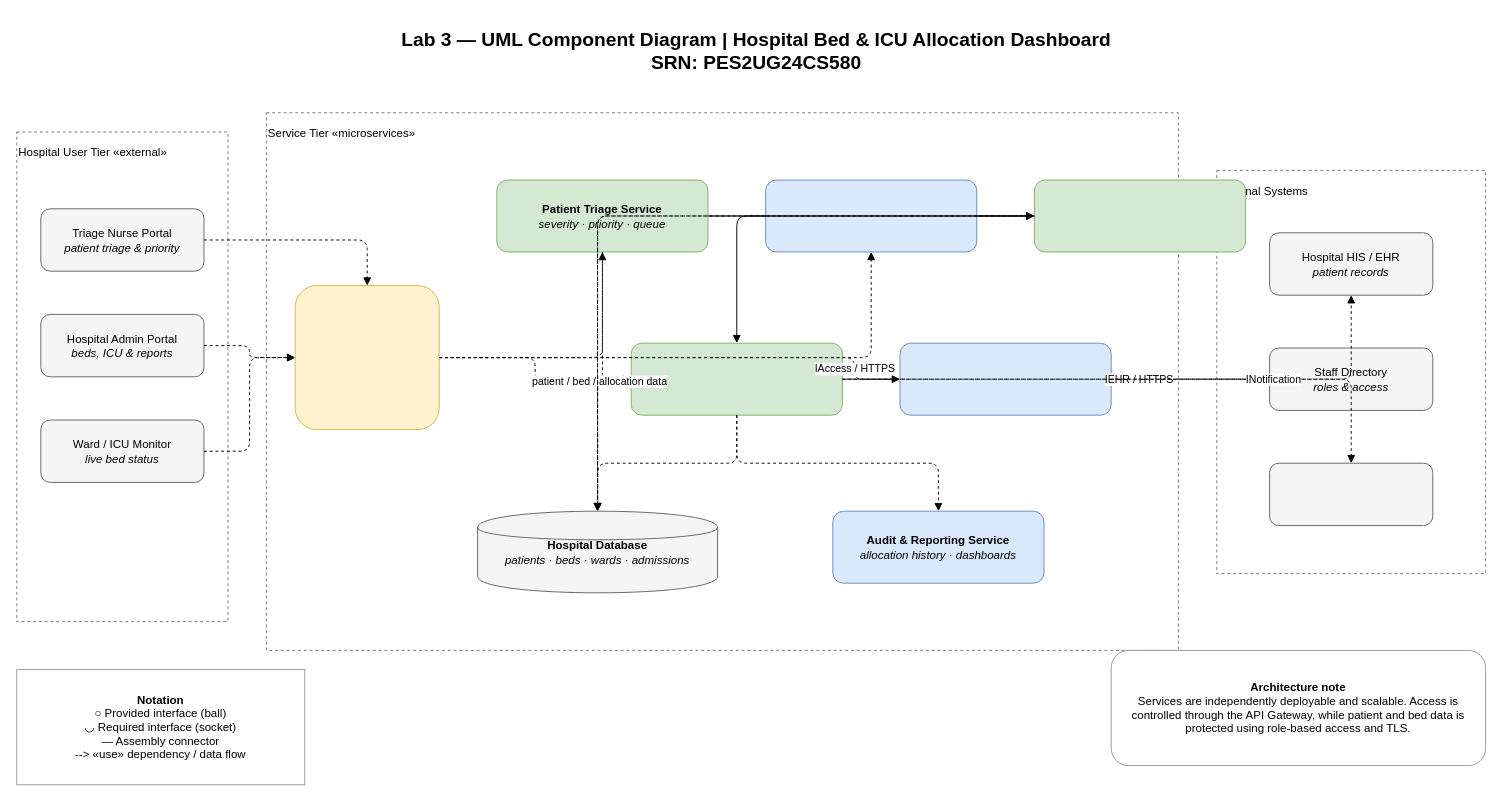
This 1502x802 diagram has some shape labels left out. Each missing label, with the centre of its shape:
"Admission Manager admission · transfer · discharge" belongs at (736,378).
"Alert & Notification Service critical alerts · escalation" belongs at (1005,378).
"Allocation Engine matching · admission rules" belongs at (1139,215).
"API Gateway request routing TLS termination authentication" belongs at (366,357).
"Bed Availability Service ward / ICU bed status" belongs at (871,215).
"Notification Gateway SMS / email / app" belongs at (1351,494).
